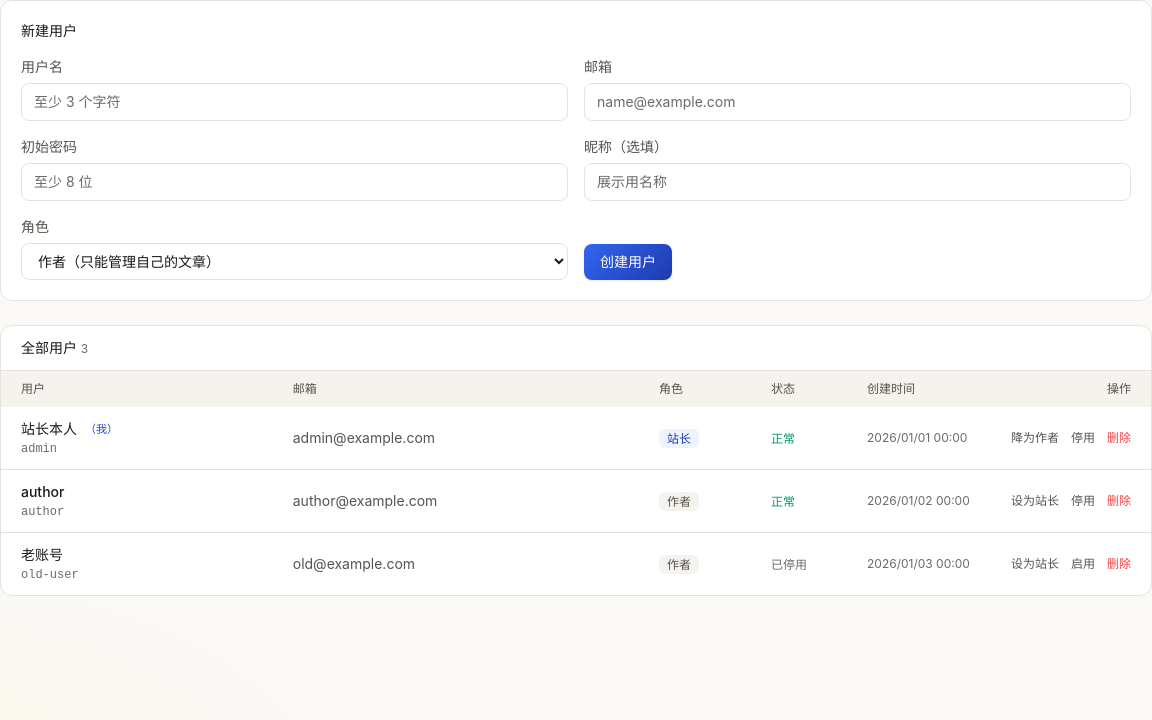
Test: UsersView · 角色与状态变更 › 点「停用」提交 is_active=false，成功后状态与按钮文案都变
Click the button "停用" in the row of "author@example.com" at (1083, 501), box [1071, 493, 1095, 509]
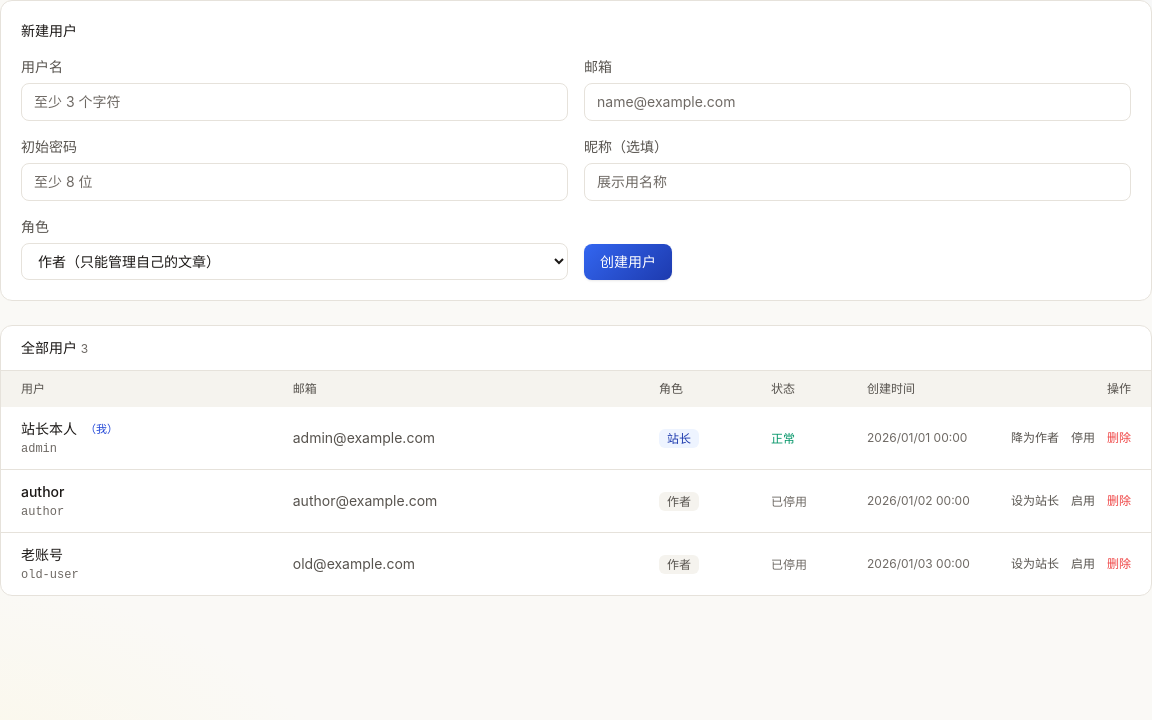
Now the text "已停用" in the row of "author@example.com" is shown, box [771, 494, 807, 509]
Now the row that starts with "author" shows "已停用", box [771, 494, 807, 509]
